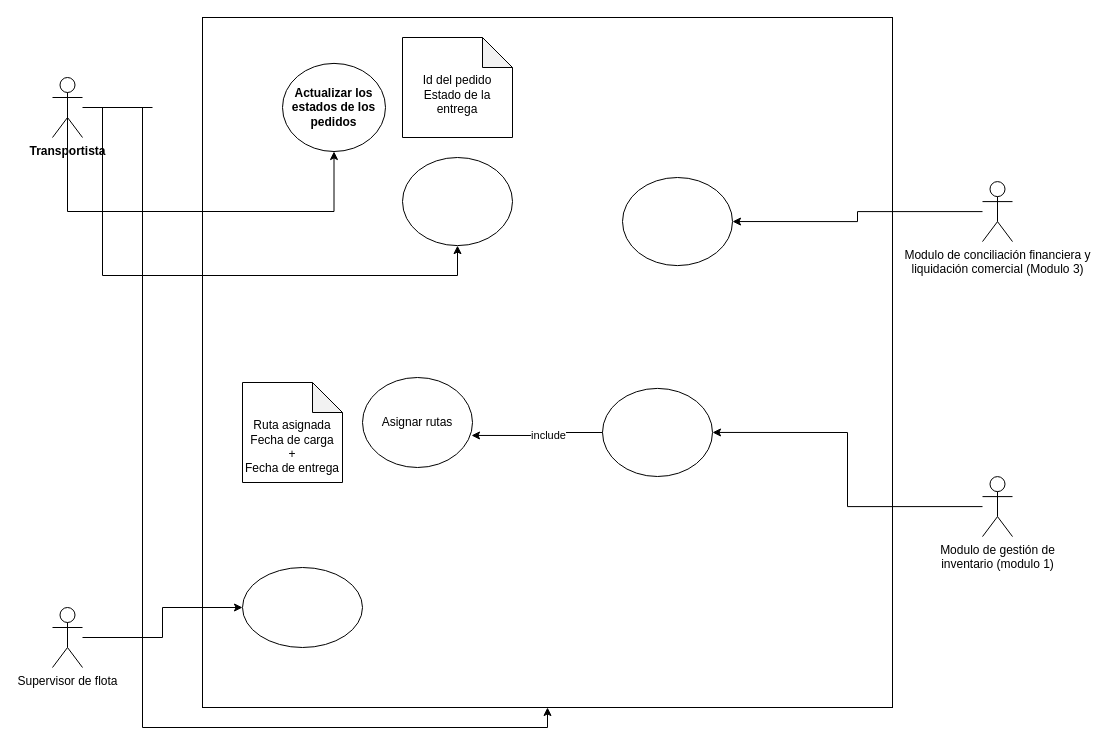
Image size: 1107x753. Some labels were removed from this diagram. Here are the shapes that lost their labels. From the top down, the box of each, then its label:
(402, 156, 512, 246): Consultar paradas de las rutas
(622, 176, 732, 266): Solicita el estado de la entrega
(602, 387, 712, 476): Solicita una ruta para la entrega de pedidos
(242, 566, 362, 648): Gestión de flota
